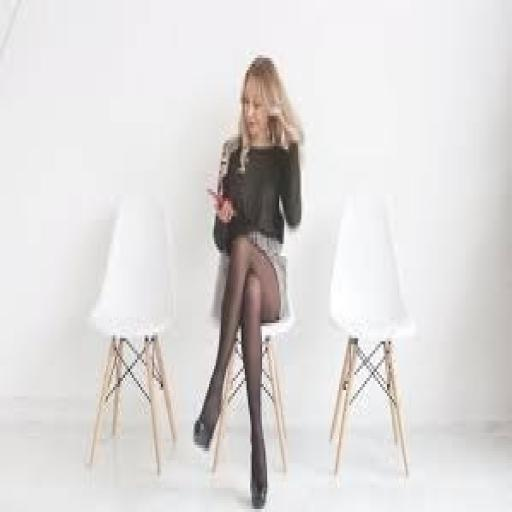sitting: (190, 52, 305, 506)
